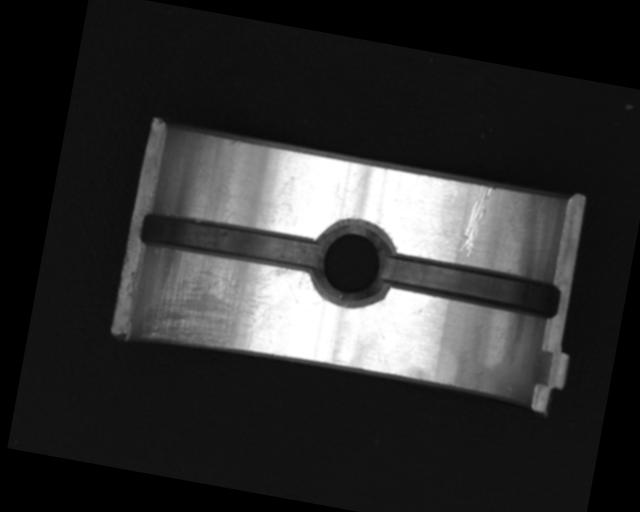gap: (139, 206, 324, 277), (382, 251, 563, 320)
hole: (305, 216, 400, 313)
nick: (457, 181, 494, 259)
scratch: (134, 244, 290, 366)
